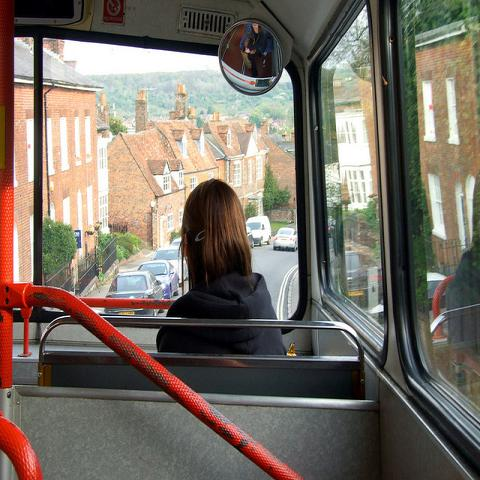bus: (0, 0, 479, 479)
car: (103, 270, 166, 314), (345, 250, 382, 300), (136, 260, 180, 300), (151, 245, 189, 283), (426, 271, 448, 307), (272, 228, 298, 252), (169, 236, 182, 248)
truck: (245, 215, 272, 246)
